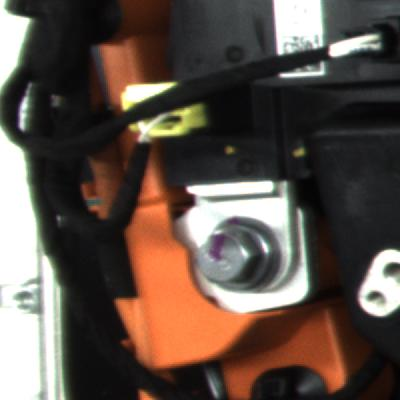nut_b: (188, 213, 281, 301)
